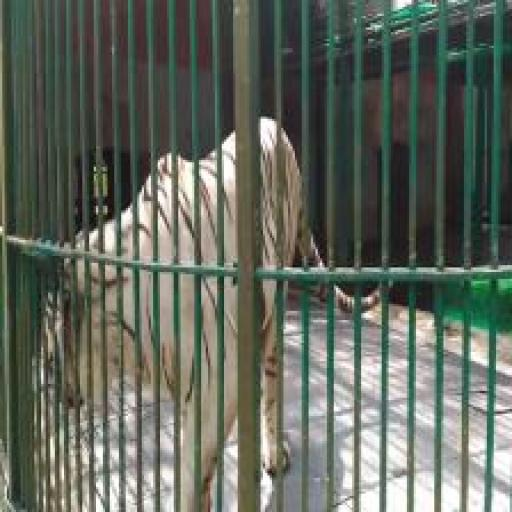Tiger: (39, 66, 395, 511), (396, 320, 396, 321)
